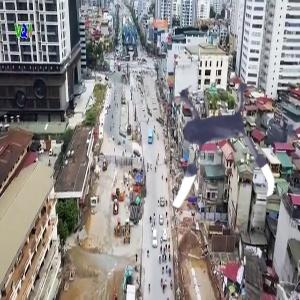drone: (133, 64, 295, 226)
